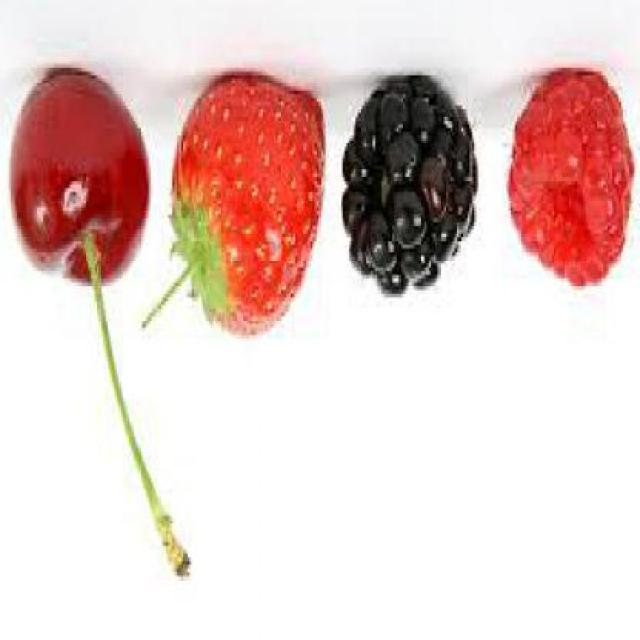BIODEGRADABLE: (9, 69, 191, 580), (174, 72, 326, 338), (343, 80, 477, 297), (511, 71, 635, 289)
